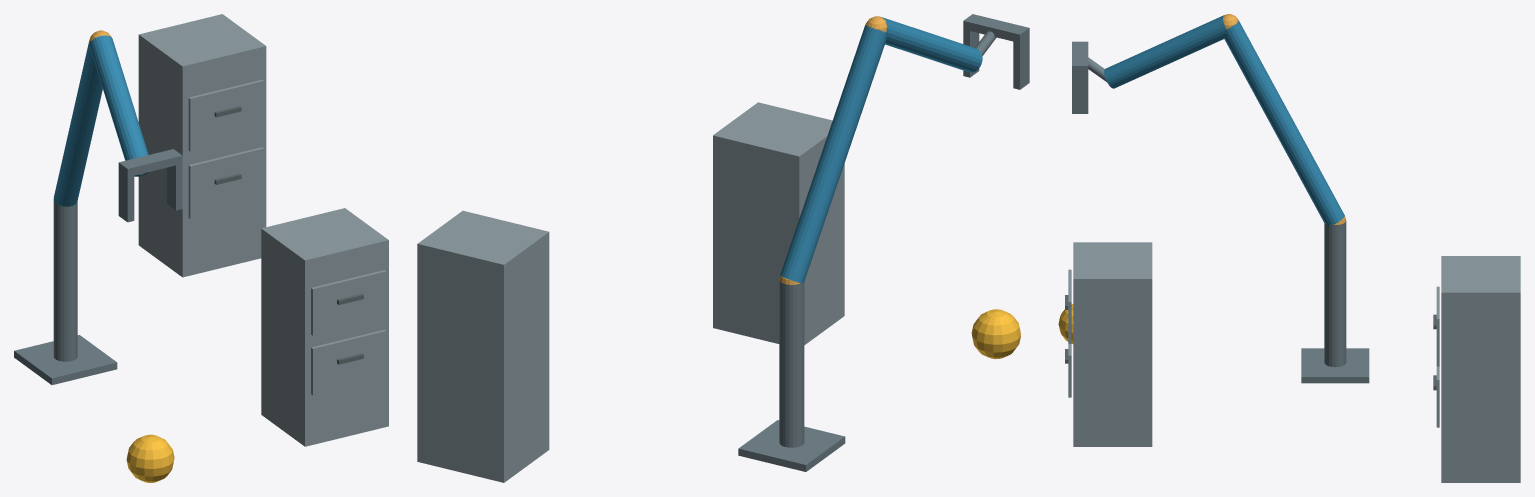
3 views of the same model, side by side, from view 1: azimuth 30°, elevation 25°; view 2: azimuth 150°, elevation 25°; view 3: azimuth 270°, elevation 25° (orthographic). The views are drawn at different scales.
Parts seen in each view (by area): view 1: cabinet_2 body, cabinet_1 body, cabinet_2 drawer front.001, cabinet_2 drawer front, fixed post, cabinet_1 drawer front, cabinet_1 drawer front.001, moving link 1, moving link 2, pedestal, ball ball_1, gripper bridge (+2 smaller); view 2: cabinet_2 body, cabinet_1 body, moving link 1, fixed post, pedestal, moving link 2, ball ball_1, gripper bridge, gripper finger -1; view 3: cabinet_2 body, cabinet_1 body, moving link 1, fixed post, moving link 2, pedestal, gripper finger 1, gripper bridge.
Boxes of the visible parts, x1=… form: cabinet_2 body: x1=138, y1=14, x2=266, y2=277; cabinet_1 body: x1=261, y1=208, x2=388, y2=446; cabinet_2 drawer front.001: x1=188, y1=79, x2=263, y2=151; cabinet_2 drawer front: x1=188, y1=147, x2=263, y2=218; fixed post: x1=53, y1=198, x2=77, y2=361; cabinet_1 drawer front: x1=311, y1=329, x2=386, y2=395; cabinet_1 drawer front.001: x1=311, y1=270, x2=386, y2=335; moving link 1: x1=53, y1=39, x2=102, y2=206; moving link 2: x1=89, y1=35, x2=148, y2=176; pedestal: x1=14, y1=335, x2=117, y2=384; ball ball_1: x1=126, y1=434, x2=174, y2=482; gripper bridge: x1=118, y1=149, x2=182, y2=177; cabinet_2 body: x1=417, y1=210, x2=549, y2=482; cabinet_1 body: x1=713, y1=102, x2=844, y2=345; moving link 1: x1=780, y1=25, x2=886, y2=283; fixed post: x1=779, y1=279, x2=804, y2=447; pedestal: x1=738, y1=420, x2=845, y2=471; moving link 2: x1=881, y1=17, x2=982, y2=72; ball ball_1: x1=971, y1=309, x2=1020, y2=359; gripper bridge: x1=963, y1=14, x2=1029, y2=42; gripper finger -1: x1=1013, y1=36, x2=1029, y2=89; cabinet_2 body: x1=1441, y1=256, x2=1520, y2=482; cabinet_1 body: x1=1073, y1=242, x2=1152, y2=446; moving link 1: x1=1224, y1=20, x2=1344, y2=225; fixed post: x1=1324, y1=221, x2=1346, y2=367; moving link 2: x1=1104, y1=15, x2=1226, y2=88; pedestal: x1=1301, y1=348, x2=1369, y2=383; gripper finger 1: x1=1072, y1=73, x2=1088, y2=113; gripper bridge: x1=1072, y1=41, x2=1088, y2=73.
Size of the model in its own units: 1.31 by 1.39 by 1.69.
